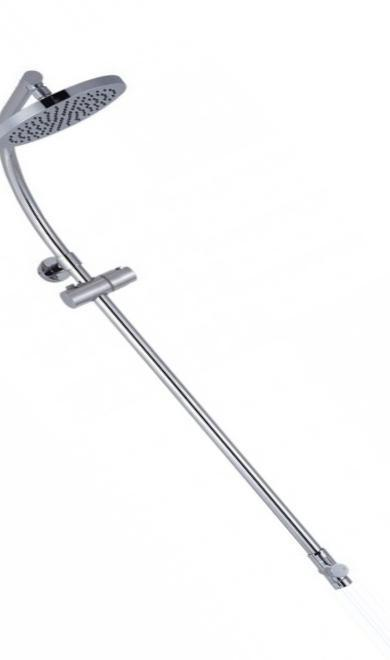Ducha: (0, 34, 372, 599)
